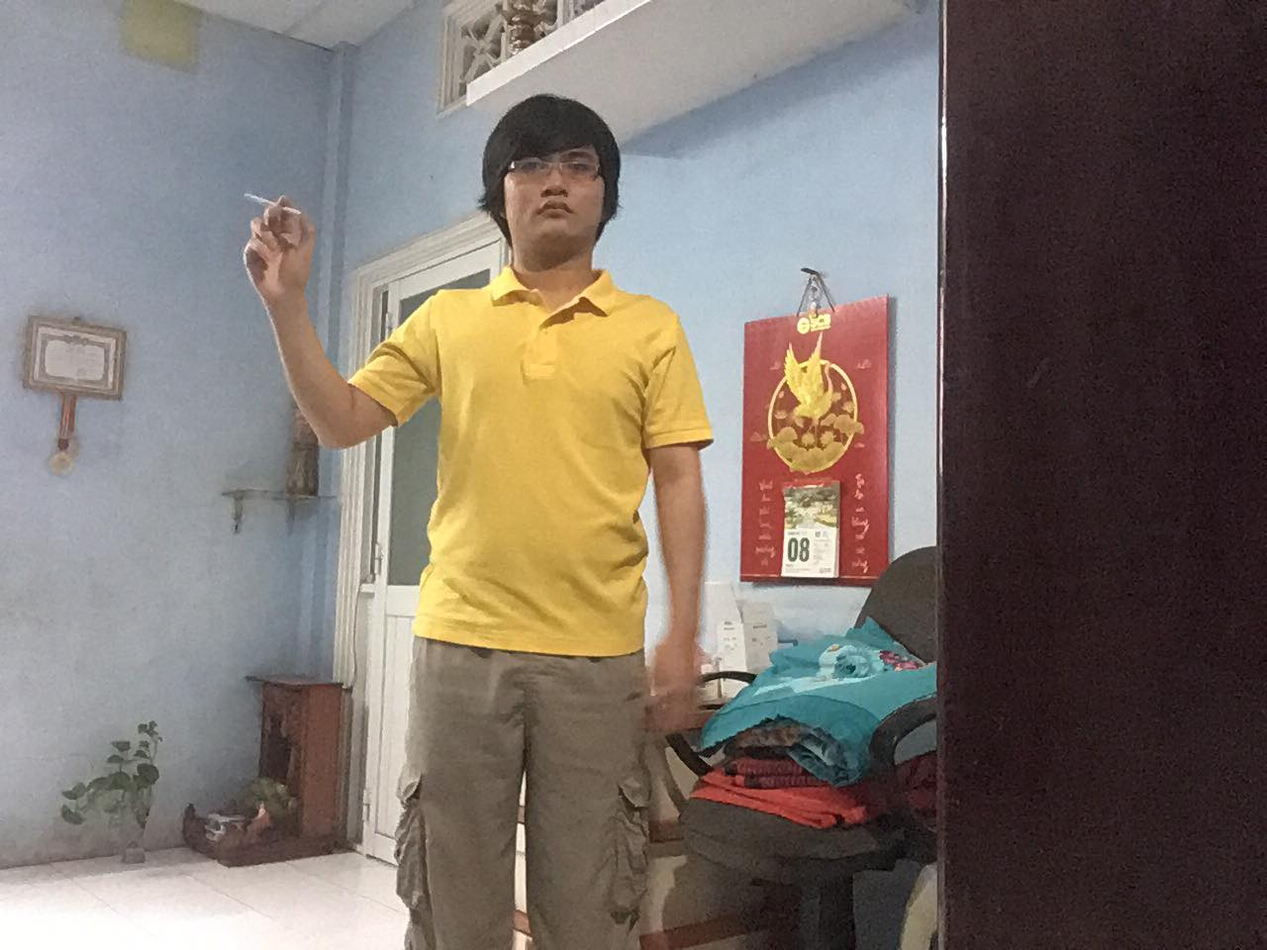cigarette: (239, 188, 277, 211)
person: (237, 133, 728, 943)
